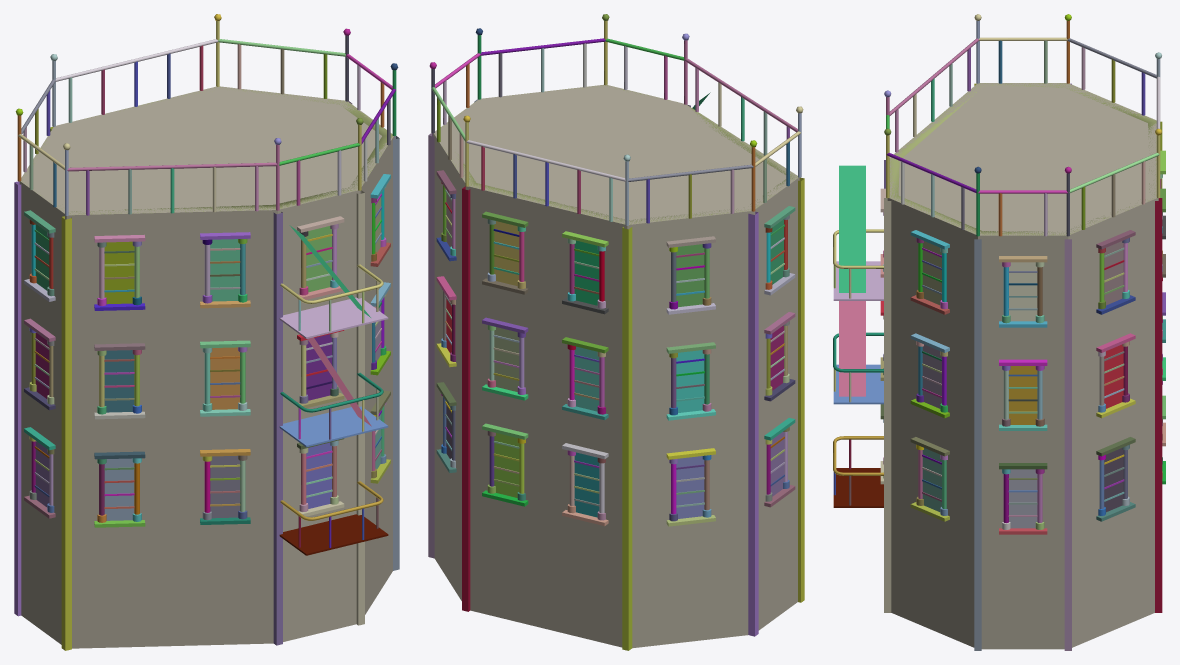
Rendered from building_3.fbx.
The picture shows the model from 3 angles, left to right: view 1: azimuth 30°, elevation 25°; view 2: azimuth 150°, elevation 25°; view 3: azimuth 270°, elevation 25°; orthographic projection. The views are drawn at different scales.
Parts seen in each view (by area): view 1: Building Procedural.003; view 2: Building Procedural.003; view 3: Building Procedural.003.
Part boxes in pixels (<box>): Building Procedural.003: <box>14,14,399,650</box>; Building Procedural.003: <box>428,14,804,650</box>; Building Procedural.003: <box>833,14,1165,650</box>.
Size of the model in its own units: 1040 by 1474 by 921.
